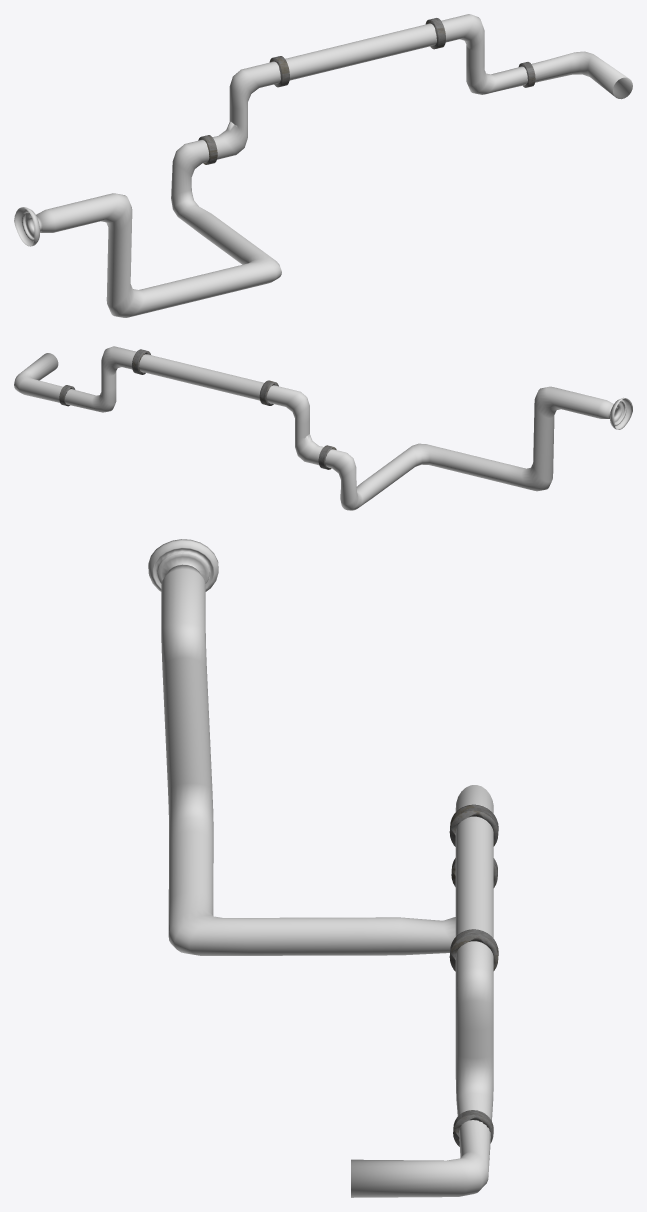
The model's file is Pipes_Adjustable.fbx.
The picture shows the model from 3 angles, top to bottom: view 1: azimuth 30°, elevation 25°; view 2: azimuth 150°, elevation 25°; view 3: azimuth 270°, elevation 25°; orthographic projection. The views are drawn at different scales.
Parts seen in each view (by area): view 1: Cylinder.020, Cylinder.025, Cylinder.016, Cylinder.019, Cylinder.021, Cylinder.024, Cylinder.022; view 2: Cylinder.020, Cylinder.025, Cylinder.016, Cylinder.019, Cylinder.021, Cylinder.024, Cylinder.022; view 3: Cylinder.020, Cylinder.025, Cylinder.022, Cylinder.016, Cylinder.024, Cylinder.019, Cylinder.021, Cylinder.018.
Part boxes in pixels (<box>): Cylinder.020: <box>14,51,632,317</box>; Cylinder.025: <box>171,121,281,290</box>; Cylinder.016: <box>288,25,430,79</box>; Cylinder.019: <box>156,268,239,308</box>; Cylinder.021: <box>229,56,295,109</box>; Cylinder.024: <box>423,14,484,51</box>; Cylinder.022: <box>207,221,256,264</box>; Cylinder.020: <box>14,353,632,491</box>; Cylinder.025: <box>295,434,450,510</box>; Cylinder.016: <box>145,355,262,399</box>; Cylinder.019: <box>443,450,511,483</box>; Cylinder.021: <box>256,380,309,424</box>; Cylinder.024: <box>101,346,151,376</box>; Cylinder.022: <box>372,454,412,489</box>; Cylinder.020: <box>148,539,493,1197</box>; Cylinder.025: <box>168,858,497,955</box>; Cylinder.022: <box>250,917,361,955</box>; Cylinder.016: <box>455,822,493,938</box>; Cylinder.024: <box>449,929,498,1030</box>; Cylinder.019: <box>168,831,213,906</box>; Cylinder.021: <box>449,785,498,846</box>; Cylinder.018: <box>455,1025,493,1058</box>.
Bounding box in the file's own units: 917 × 181 × 257.
Materials: 2 (1 with a texture image).
